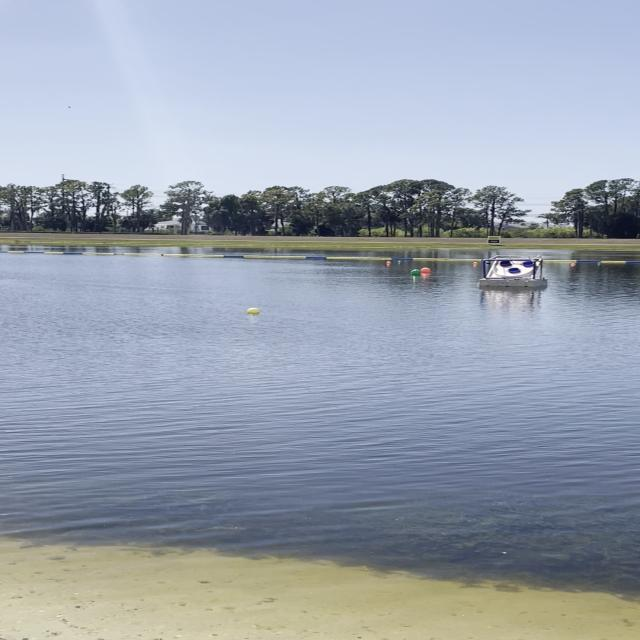buoy: (240, 305, 264, 317), (407, 268, 423, 278), (421, 266, 434, 275)
